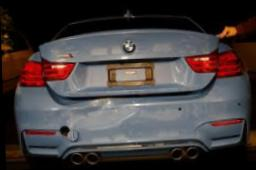Bumper: (26, 83, 217, 147)
Dickey: (36, 31, 221, 106)
